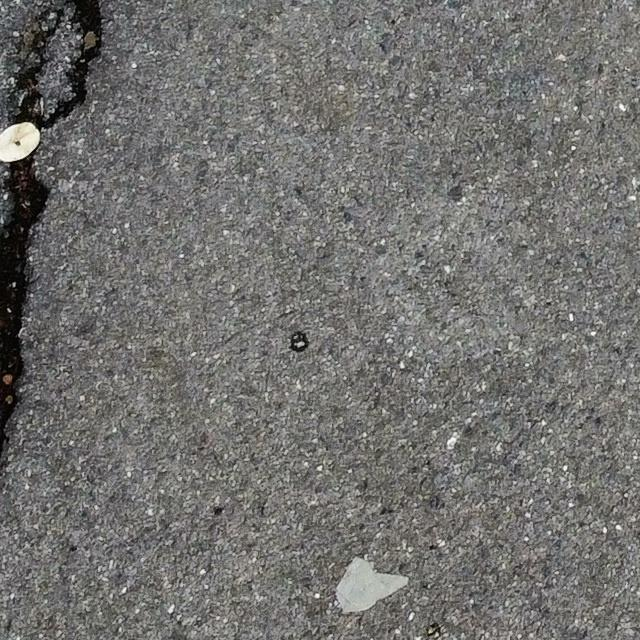LongitudinalCrack: (1, 1, 103, 450)
